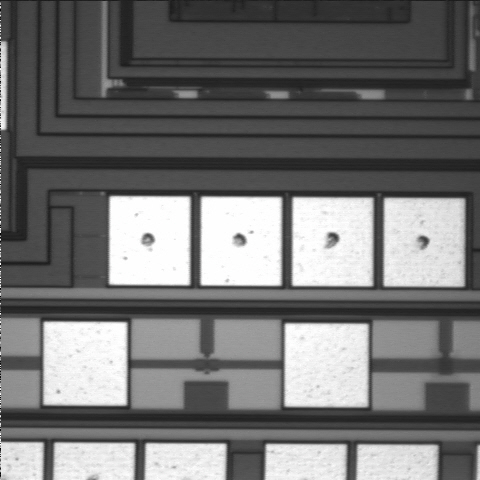pad: (109, 196, 190, 285), (201, 197, 282, 286), (292, 197, 373, 286), (384, 198, 464, 287), (44, 322, 127, 406), (285, 323, 368, 407)
